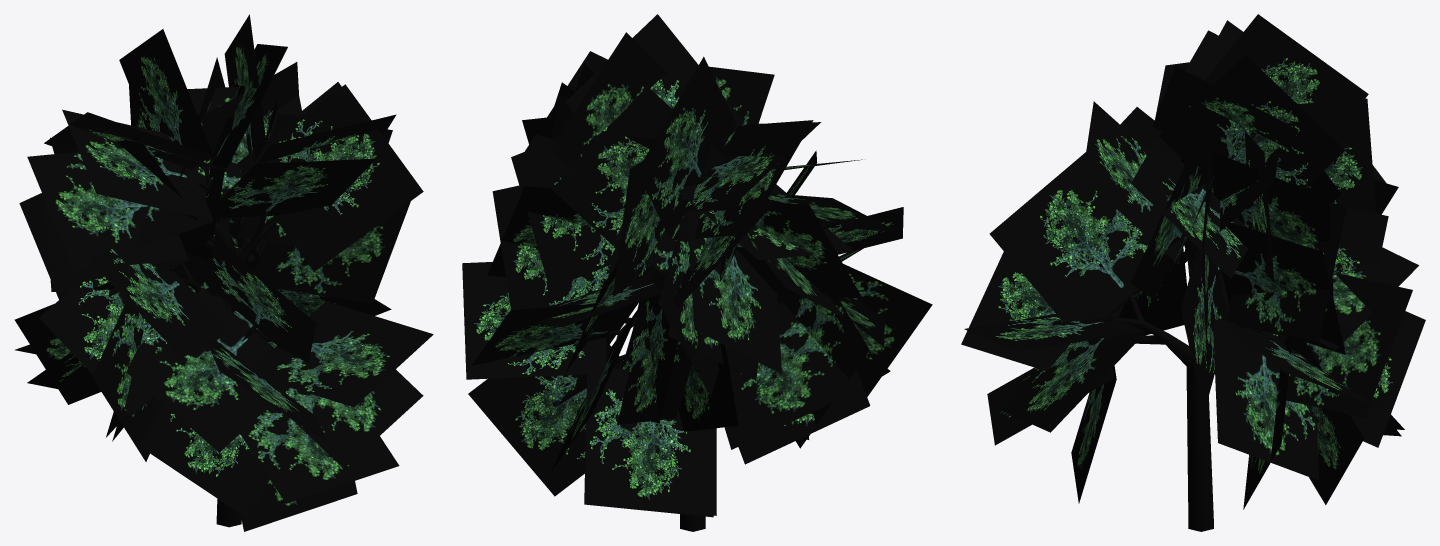
File: tree81.glb
3 views of the same model, side by side, from view 1: azimuth 30°, elevation 25°; view 2: azimuth 150°, elevation 25°; view 3: azimuth 270°, elevation 25° (orthographic). The views are drawn at different scales.
Bounding box in the file's own units: 5.71 × 7.03 × 6.01.
Materials: 2 (1 with a texture image).
